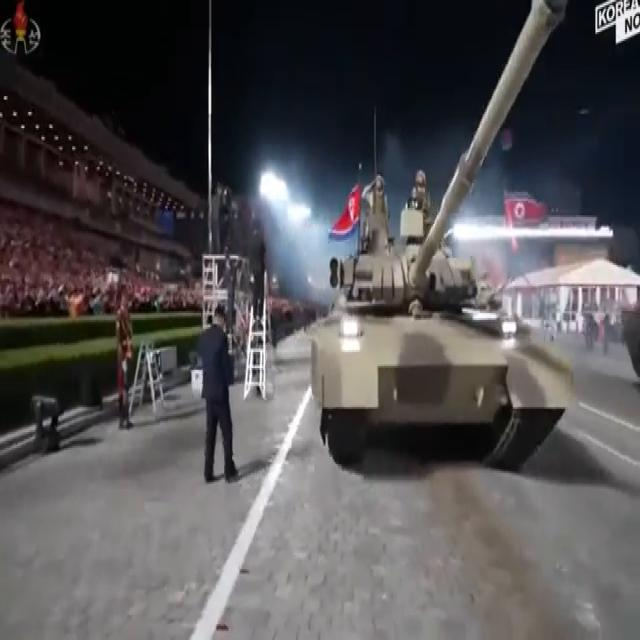north tank: (306, 0, 600, 494)
